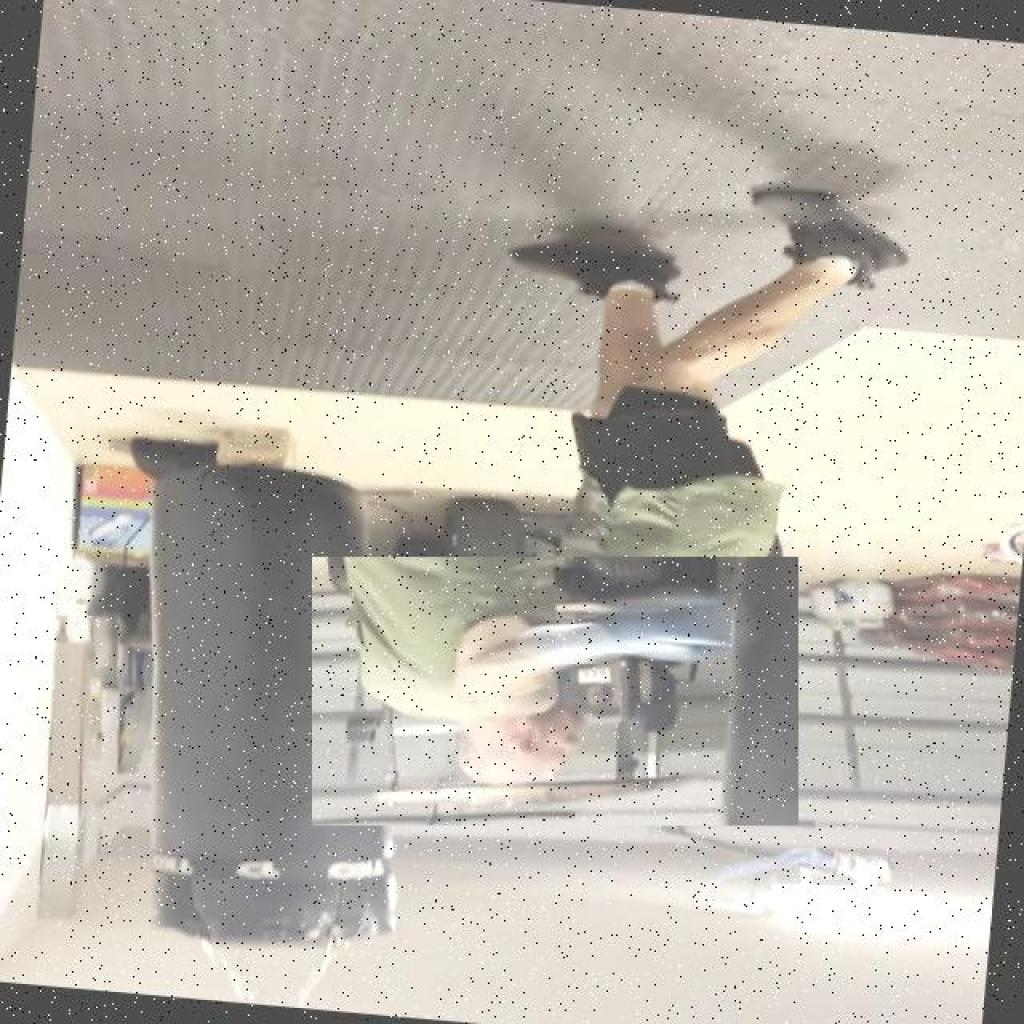bag: (48, 445, 454, 958)
hook: (312, 557, 798, 826)
